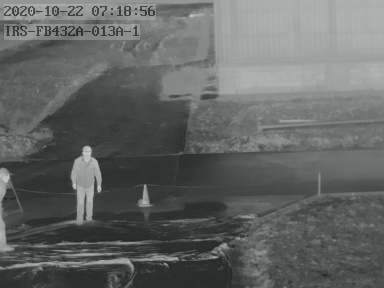person: (72, 145, 101, 225)
